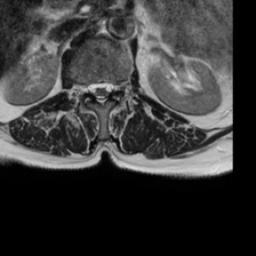CCS_normal: (96, 76, 104, 110)
LFS_normal: (113, 73, 121, 98)
LLS_normal: (104, 73, 113, 102)
RFS_normal: (79, 76, 87, 100)
RLS_normal: (87, 74, 96, 102)
